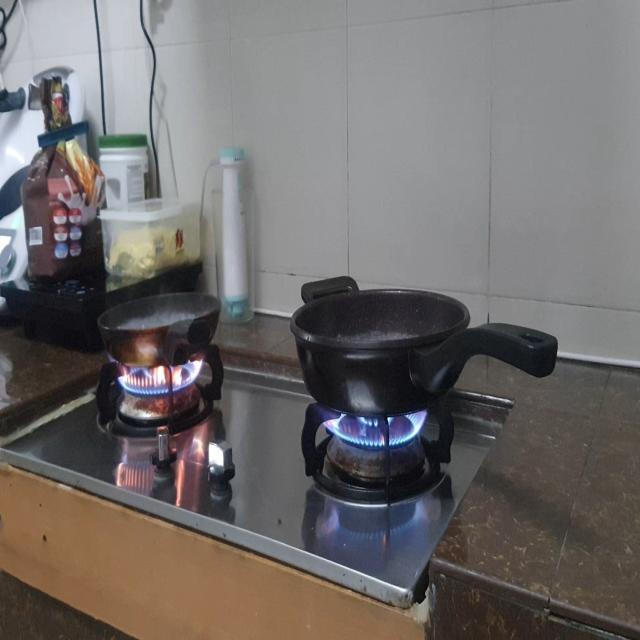smoke: (312, 396, 434, 449), (110, 354, 207, 396)
